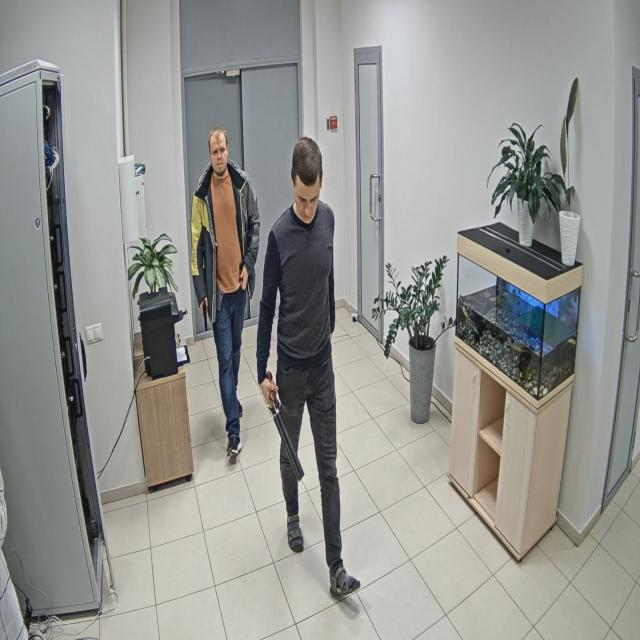-Gun: (203, 301, 207, 330)
